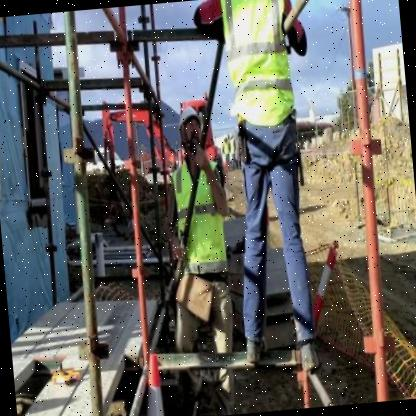bota: (244, 331, 269, 365), (298, 337, 320, 373)
capacete: (177, 107, 207, 160)
